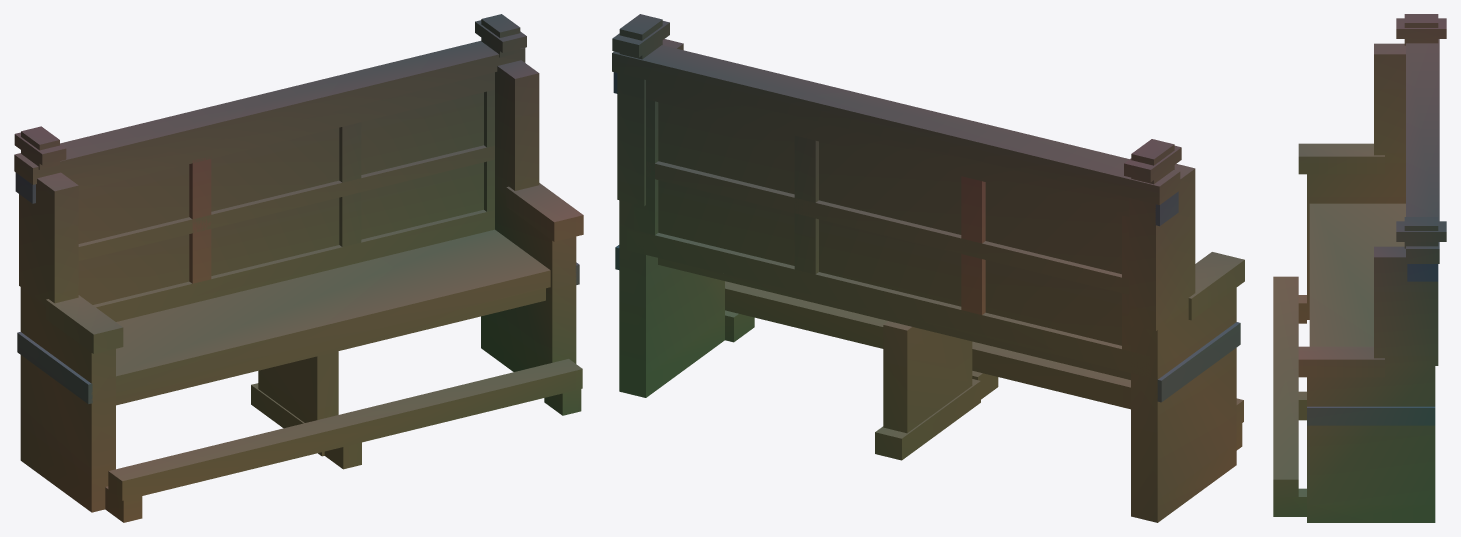
Rendered from pew.glb.
3 views of the same model, side by side, from view 1: azimuth 30°, elevation 25°; view 2: azimuth 150°, elevation 25°; view 3: azimuth 270°, elevation 25° (orthographic). The views are drawn at different scales.
Parts seen in each view (by area): view 1: pew, pew_iron; view 2: pew, pew_iron; view 3: pew, pew_iron.
Part boxes in pixels (bbox=[...]): pew: bbox=[14, 14, 583, 522]; pew_iron: bbox=[15, 172, 579, 404]; pew: bbox=[612, 14, 1244, 522]; pew_iron: bbox=[613, 72, 1240, 402]; pew: bbox=[1273, 14, 1446, 522]; pew_iron: bbox=[1307, 264, 1438, 425].
Bounding box in the file's own units: 1.84 × 1.17 × 0.62.
